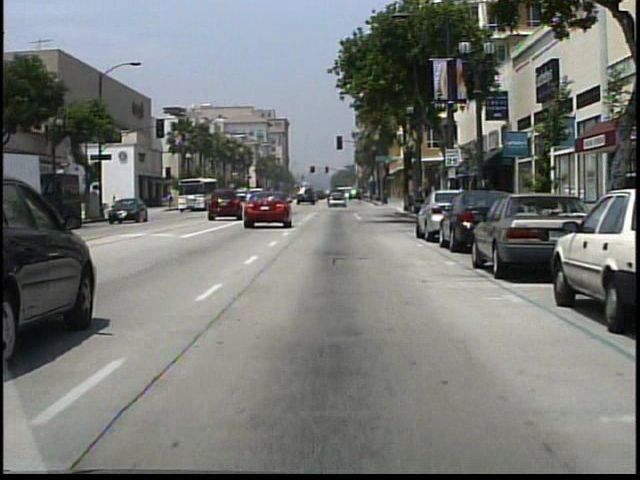person: (111, 195, 121, 216)
